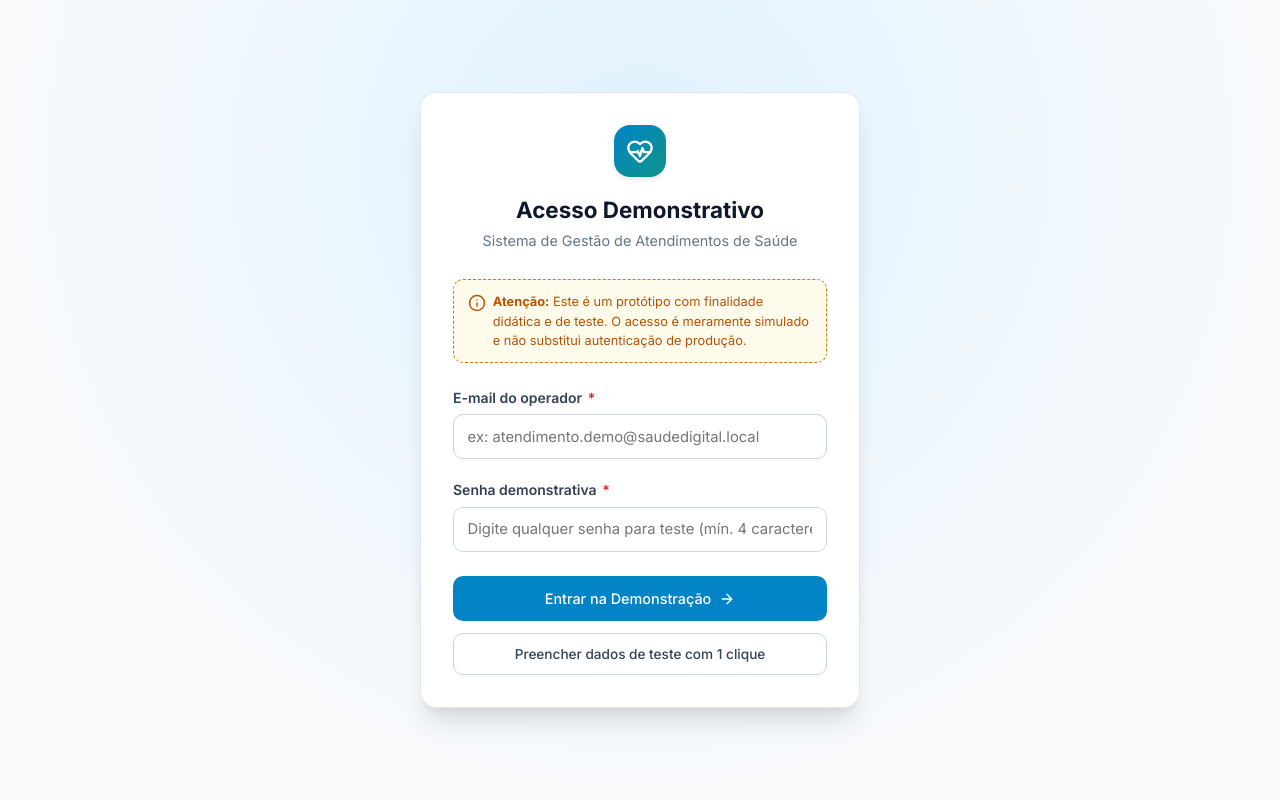
it: Gestão de Atendimentos de Saúde - Testes Funcionais › Área de Gestão e CRUD de Atendimentos › permite excluir um atendimento mediante confirmação
Click the button "Preencher dados de teste com 1 clique": (640, 654) [453, 633, 827, 675]
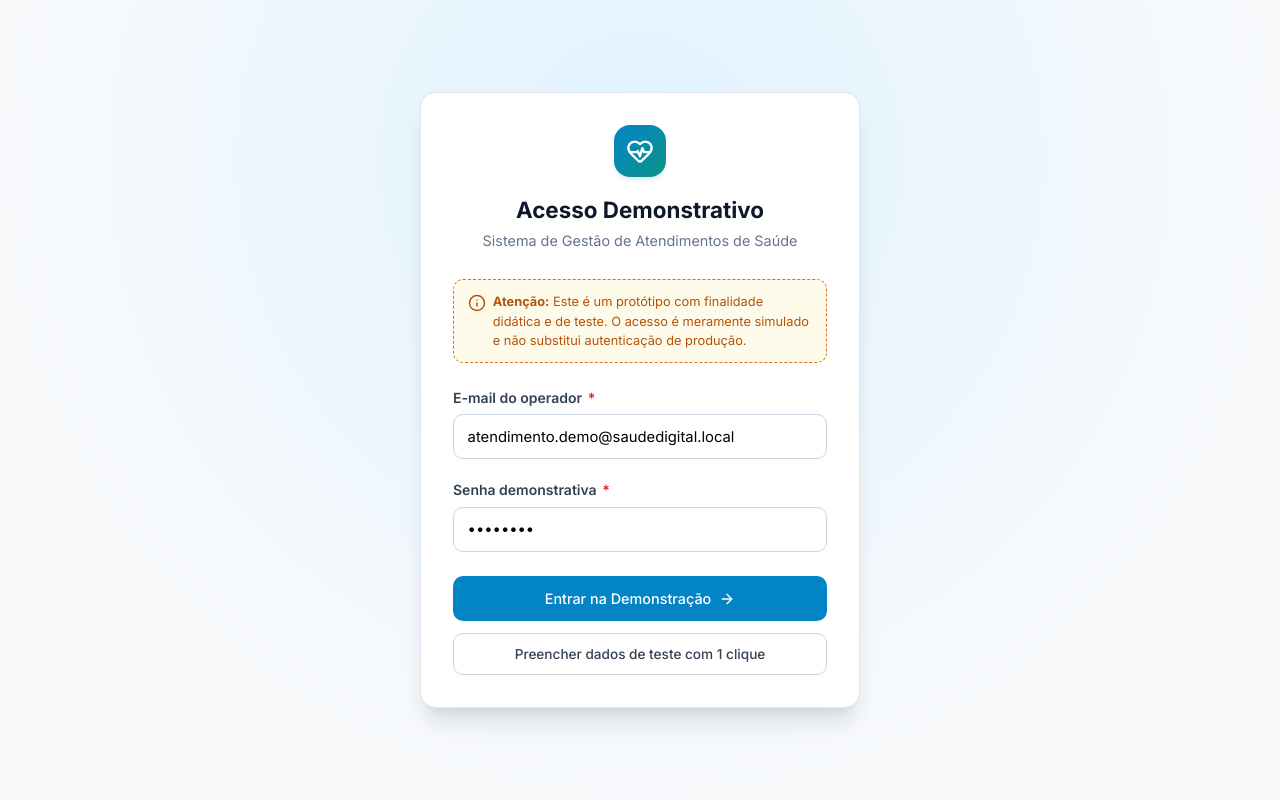
Click the button "Entrar na Demonstração": (640, 599) [453, 576, 827, 621]
(page scrolled)
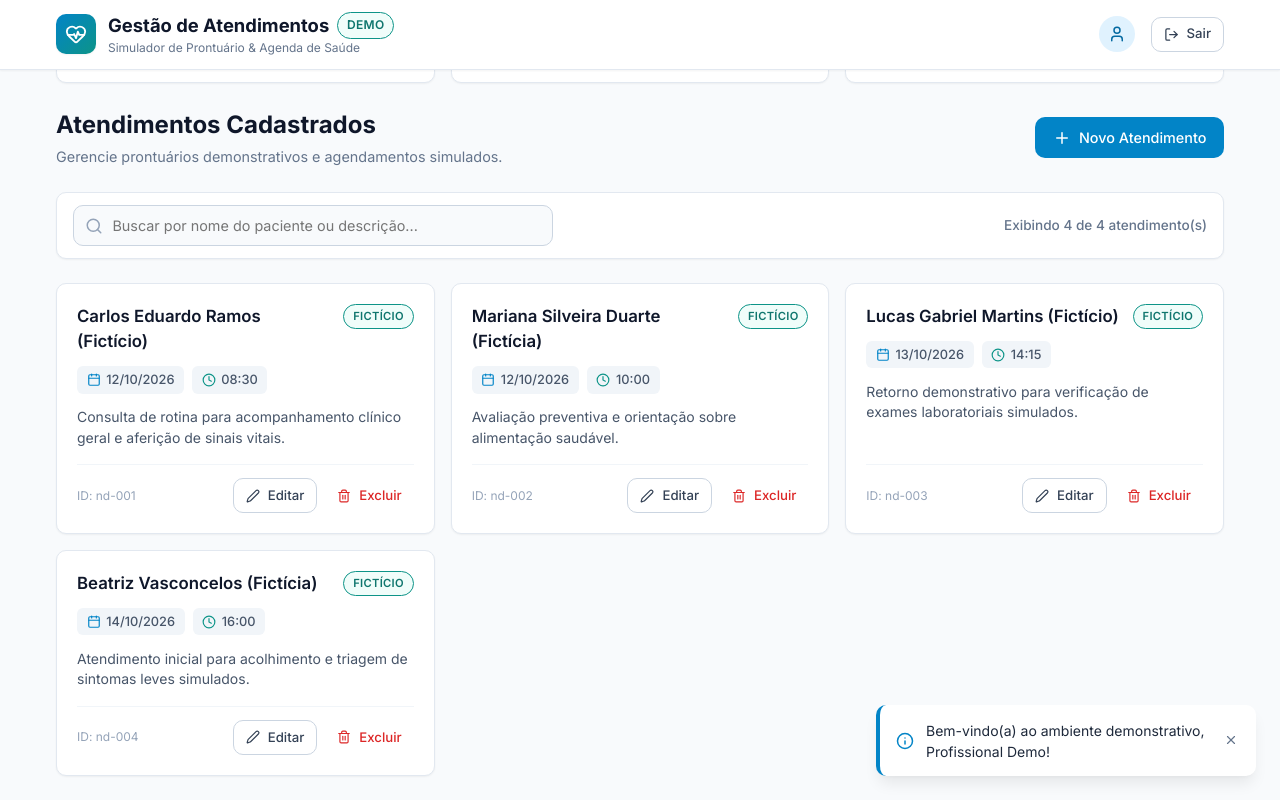
Note: Clicar em excluir do registro de Beatriz
Click the button with aria-label "excluir atendimento de beatriz vasconcelos": (369, 738) [325, 720, 414, 755]
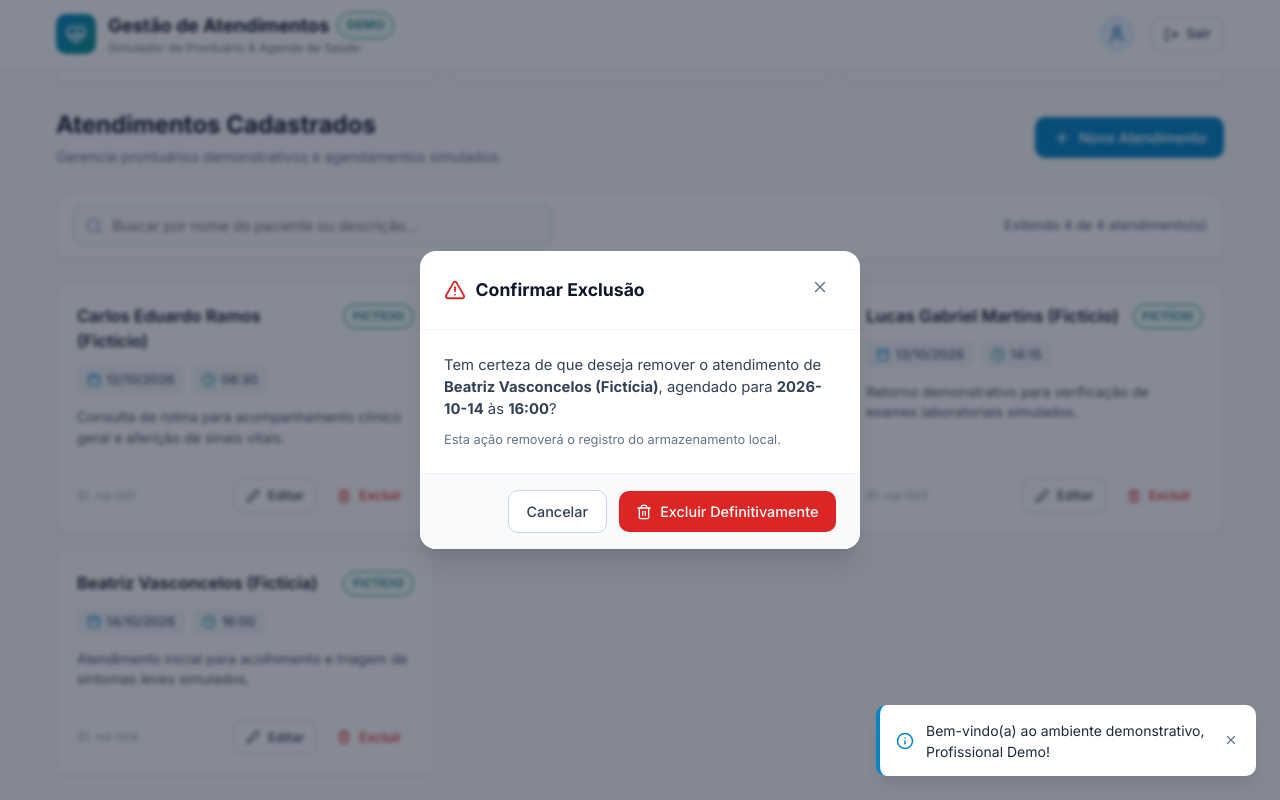
Result: the heading "Confirmar Exclusão" is shown at [476, 277, 645, 303]
Click the button "Excluir Definitivamente": (727, 512) [619, 492, 836, 532]
(page scrolled)
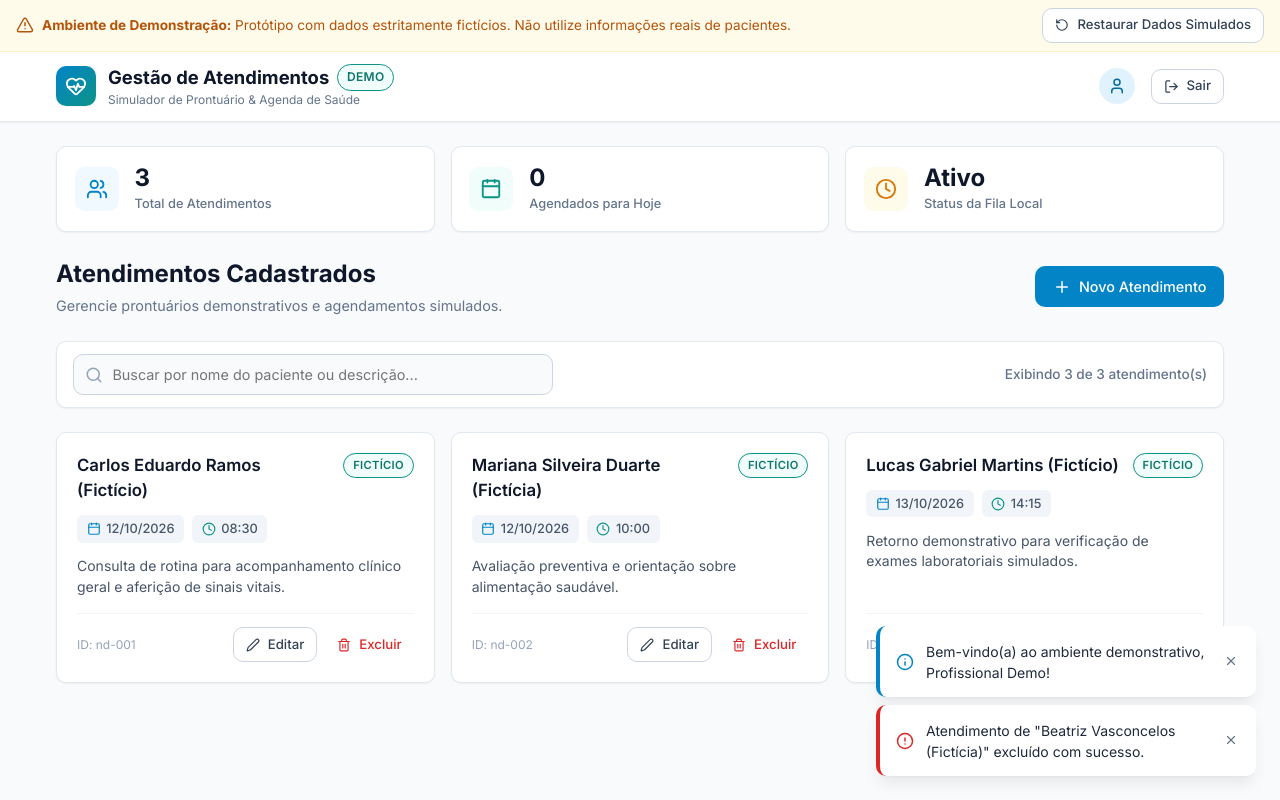
Result: the element with test id "card-atend-004" is gone
